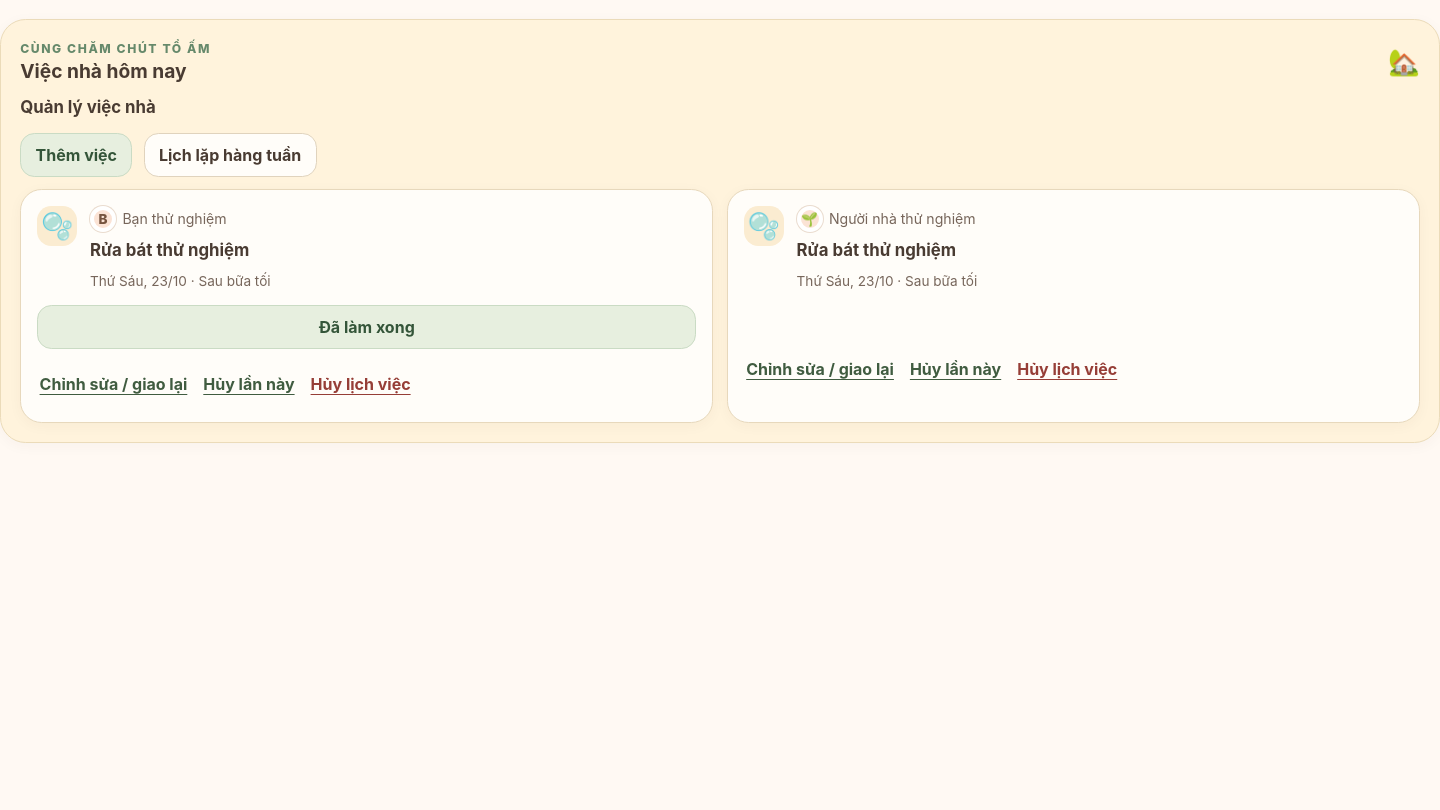
Scenario: family chores UI › parent configures weekly weekday assignments without RRULE syntax
This screenshot has width=1440, height=810.
expect the heading "Quản lý việc nhà" is shown: met, box [20,97,156,117]
Step 1. Click the button "Lịch lặp hàng tuần" → coordinates (230, 155), box [144,133,317,177]
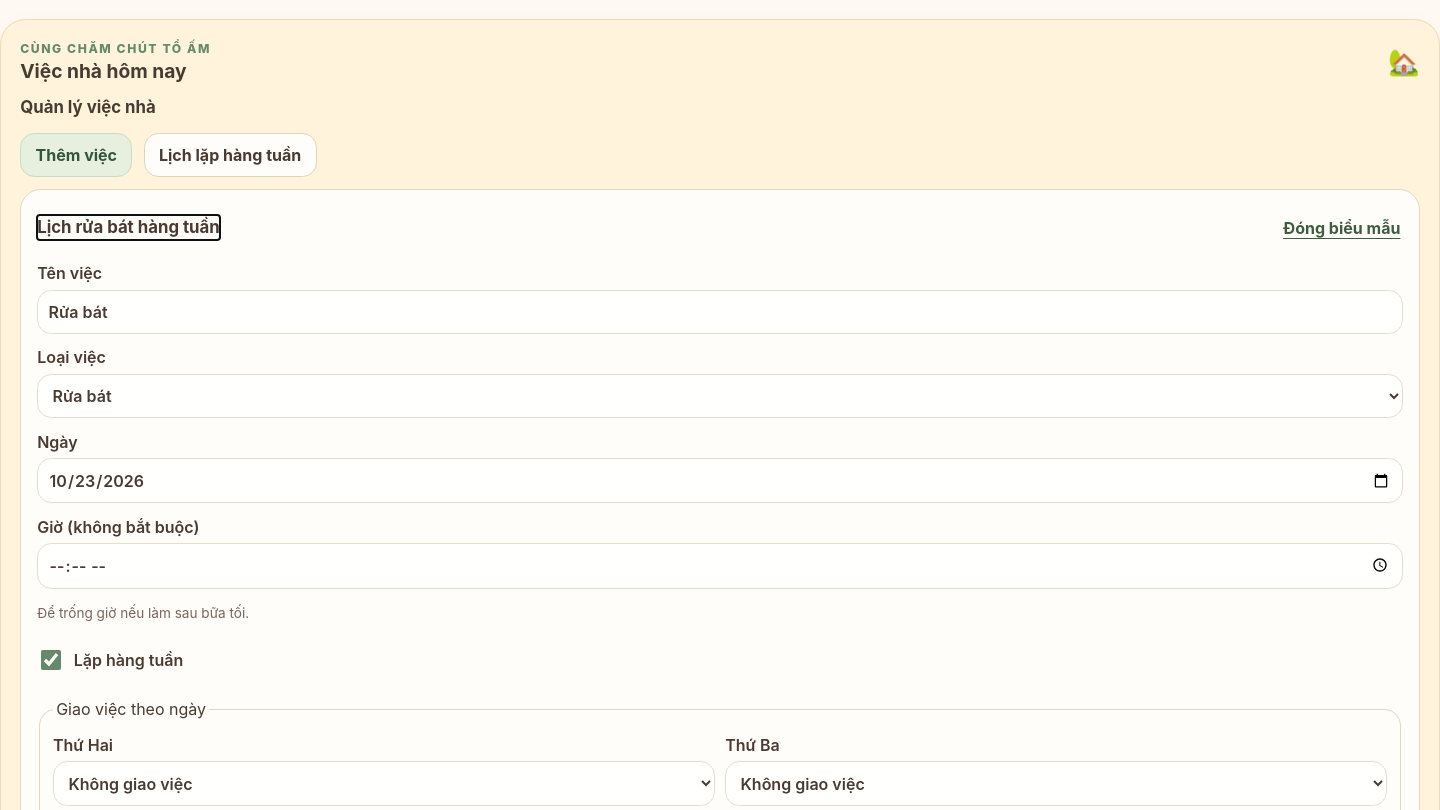
Step 2. Select "Người nhà thử nghiệm" in the dropdown labelled "Thứ Hai" → coordinates (384, 784), box [53,761,715,806]
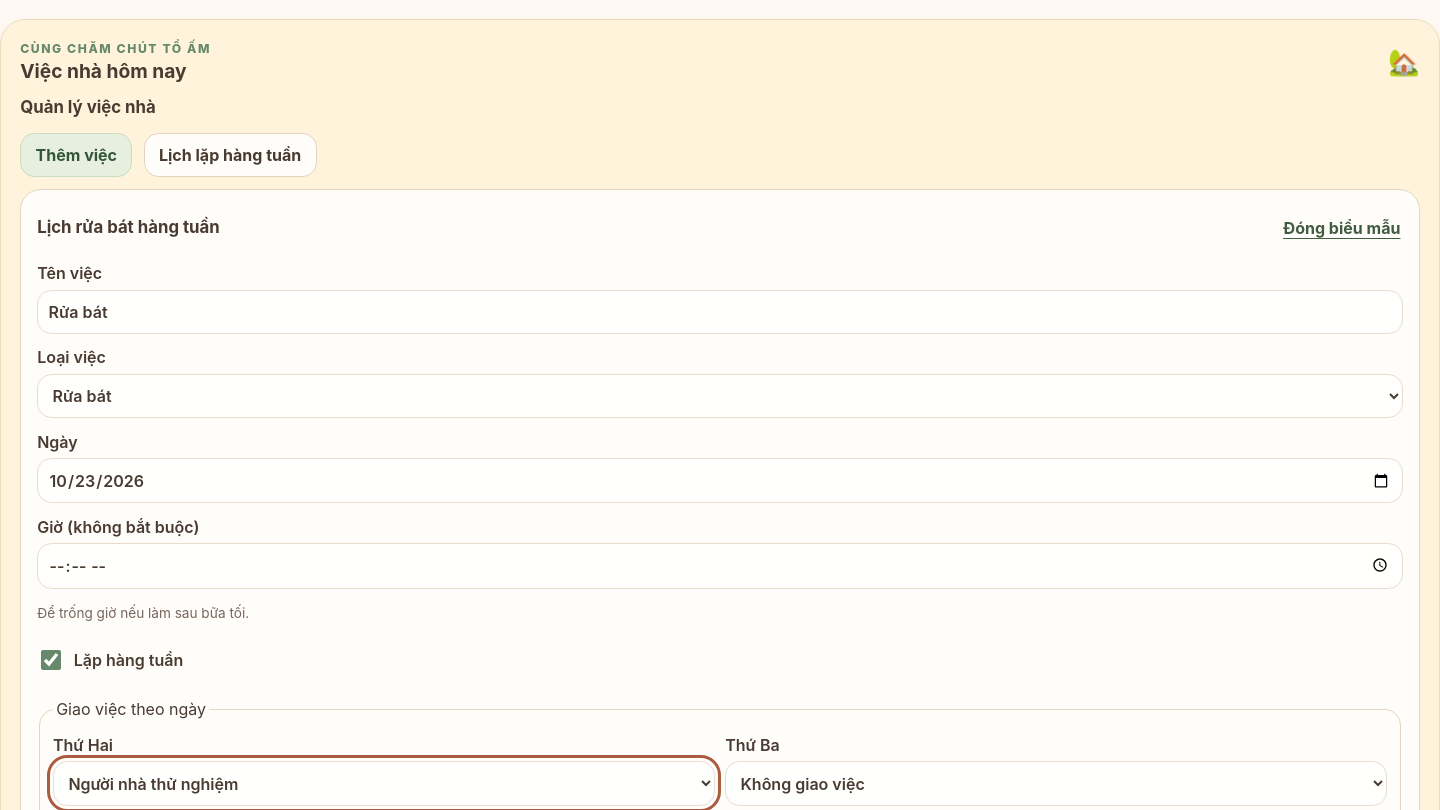
Step 3. Select "Bạn thử nghiệm" in the dropdown labelled "Thứ Ba" → coordinates (1056, 784), box [725,761,1387,806]
(page scrolled)
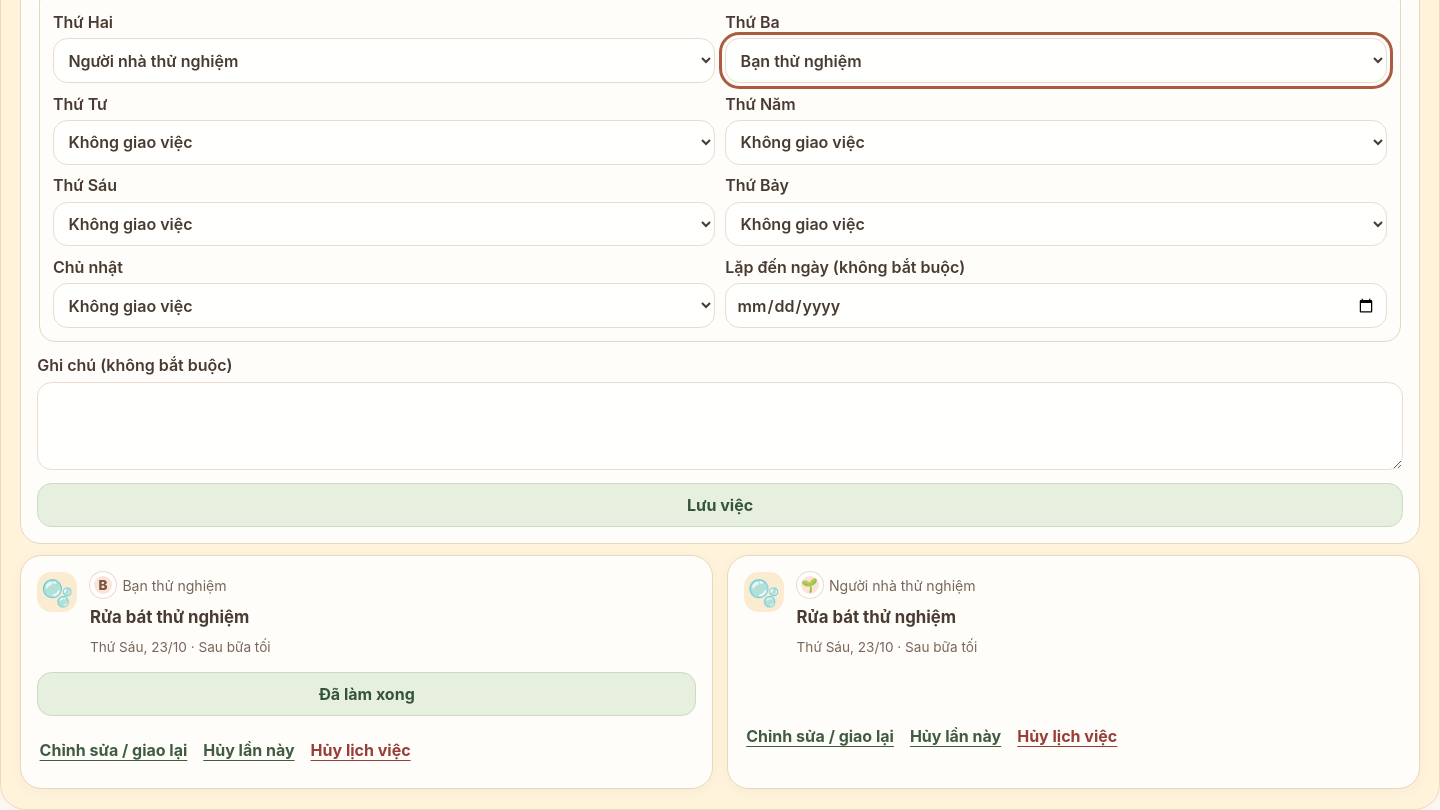
Step 4. Click the button "Lưu việc" → coordinates (720, 505), box [37,483,1403,527]
(page scrolled)
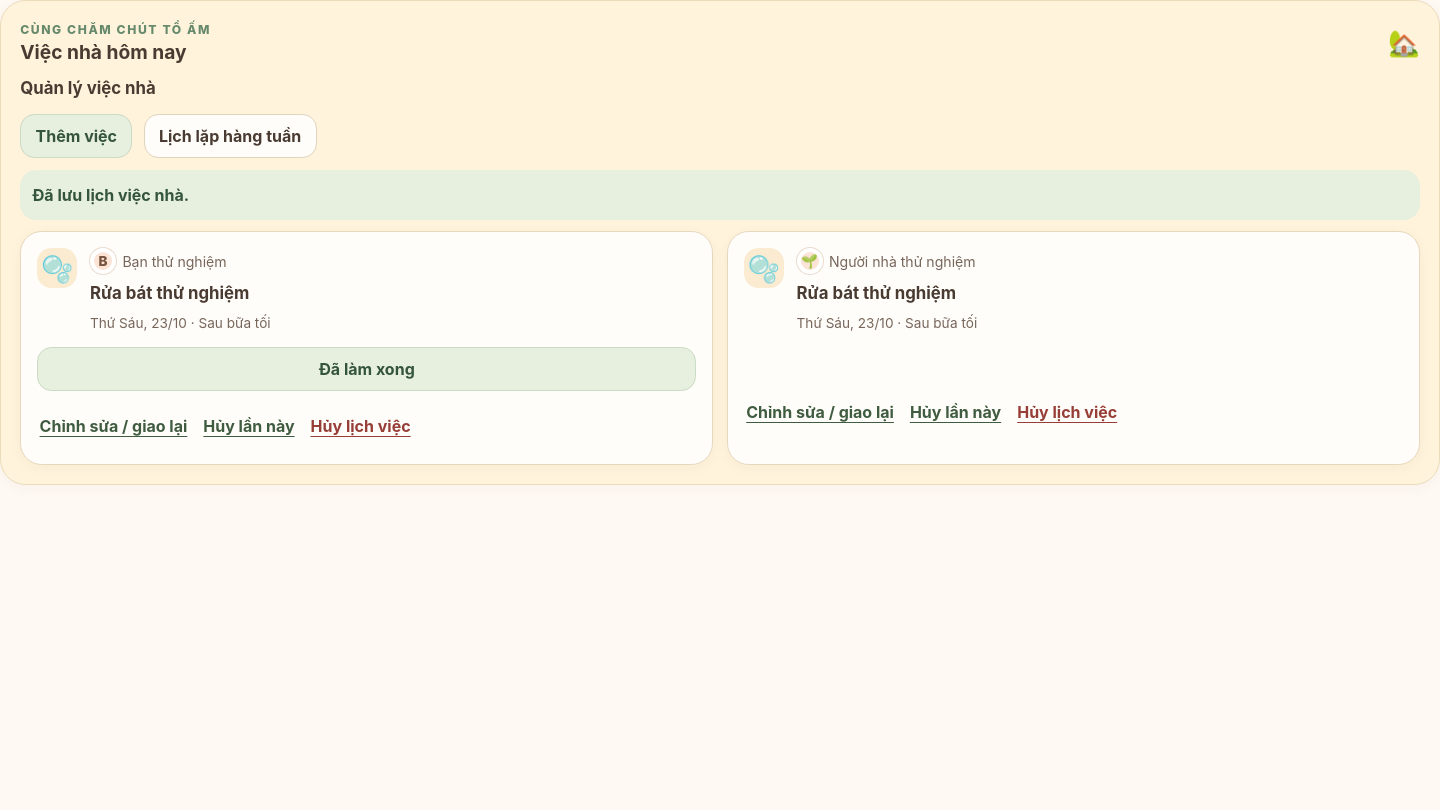
expect the text "Đã lưu lịch việc nhà." is shown: met, box [20,170,1420,220]
